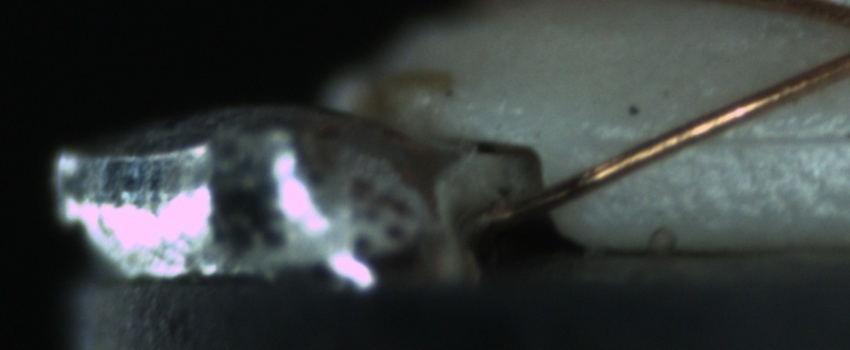DL: (611, 104, 847, 171)
